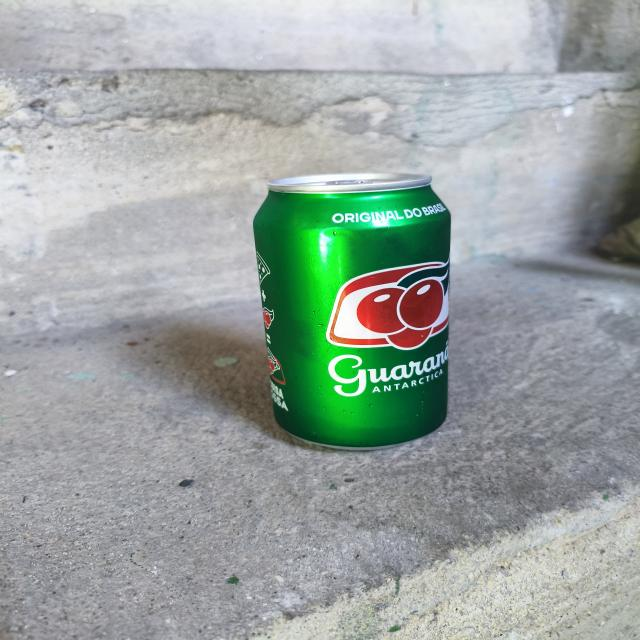Guarana: (240, 152, 476, 457)
